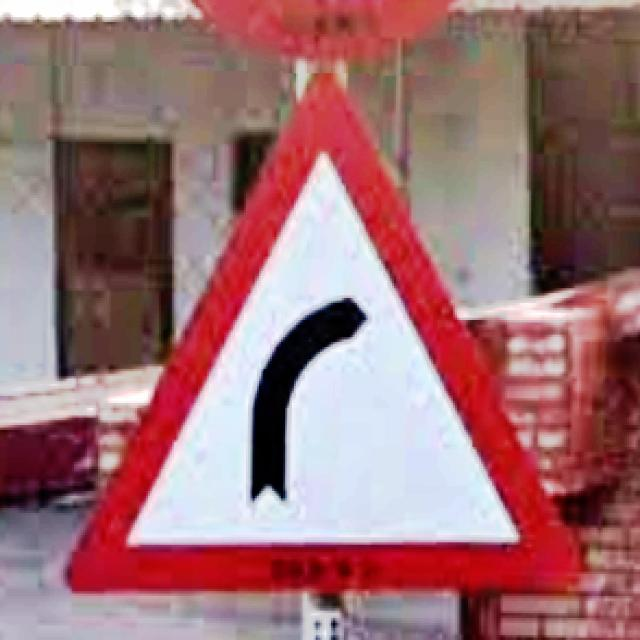rightbend: (65, 73, 581, 594)
